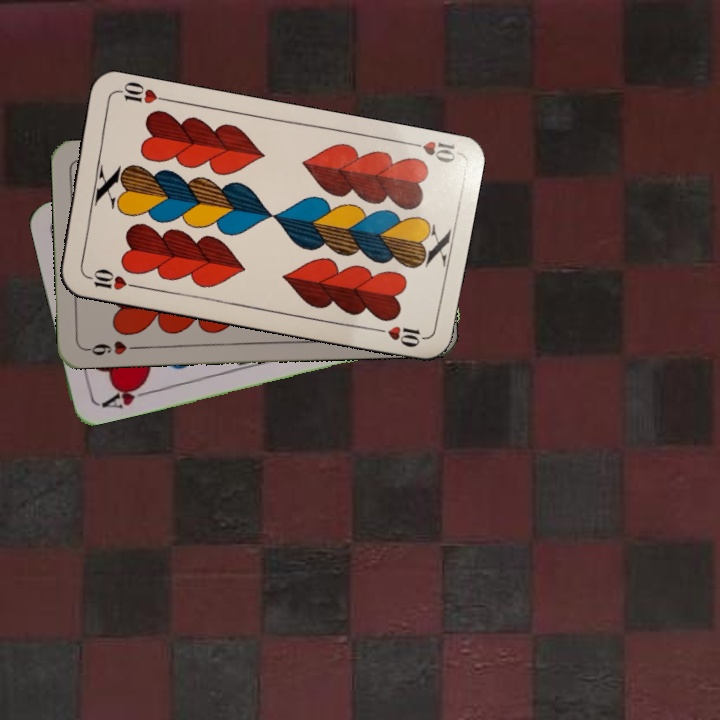H10: (401, 137, 460, 166), (81, 265, 140, 293)
H9: (82, 337, 141, 358)
HA: (97, 377, 154, 411)
